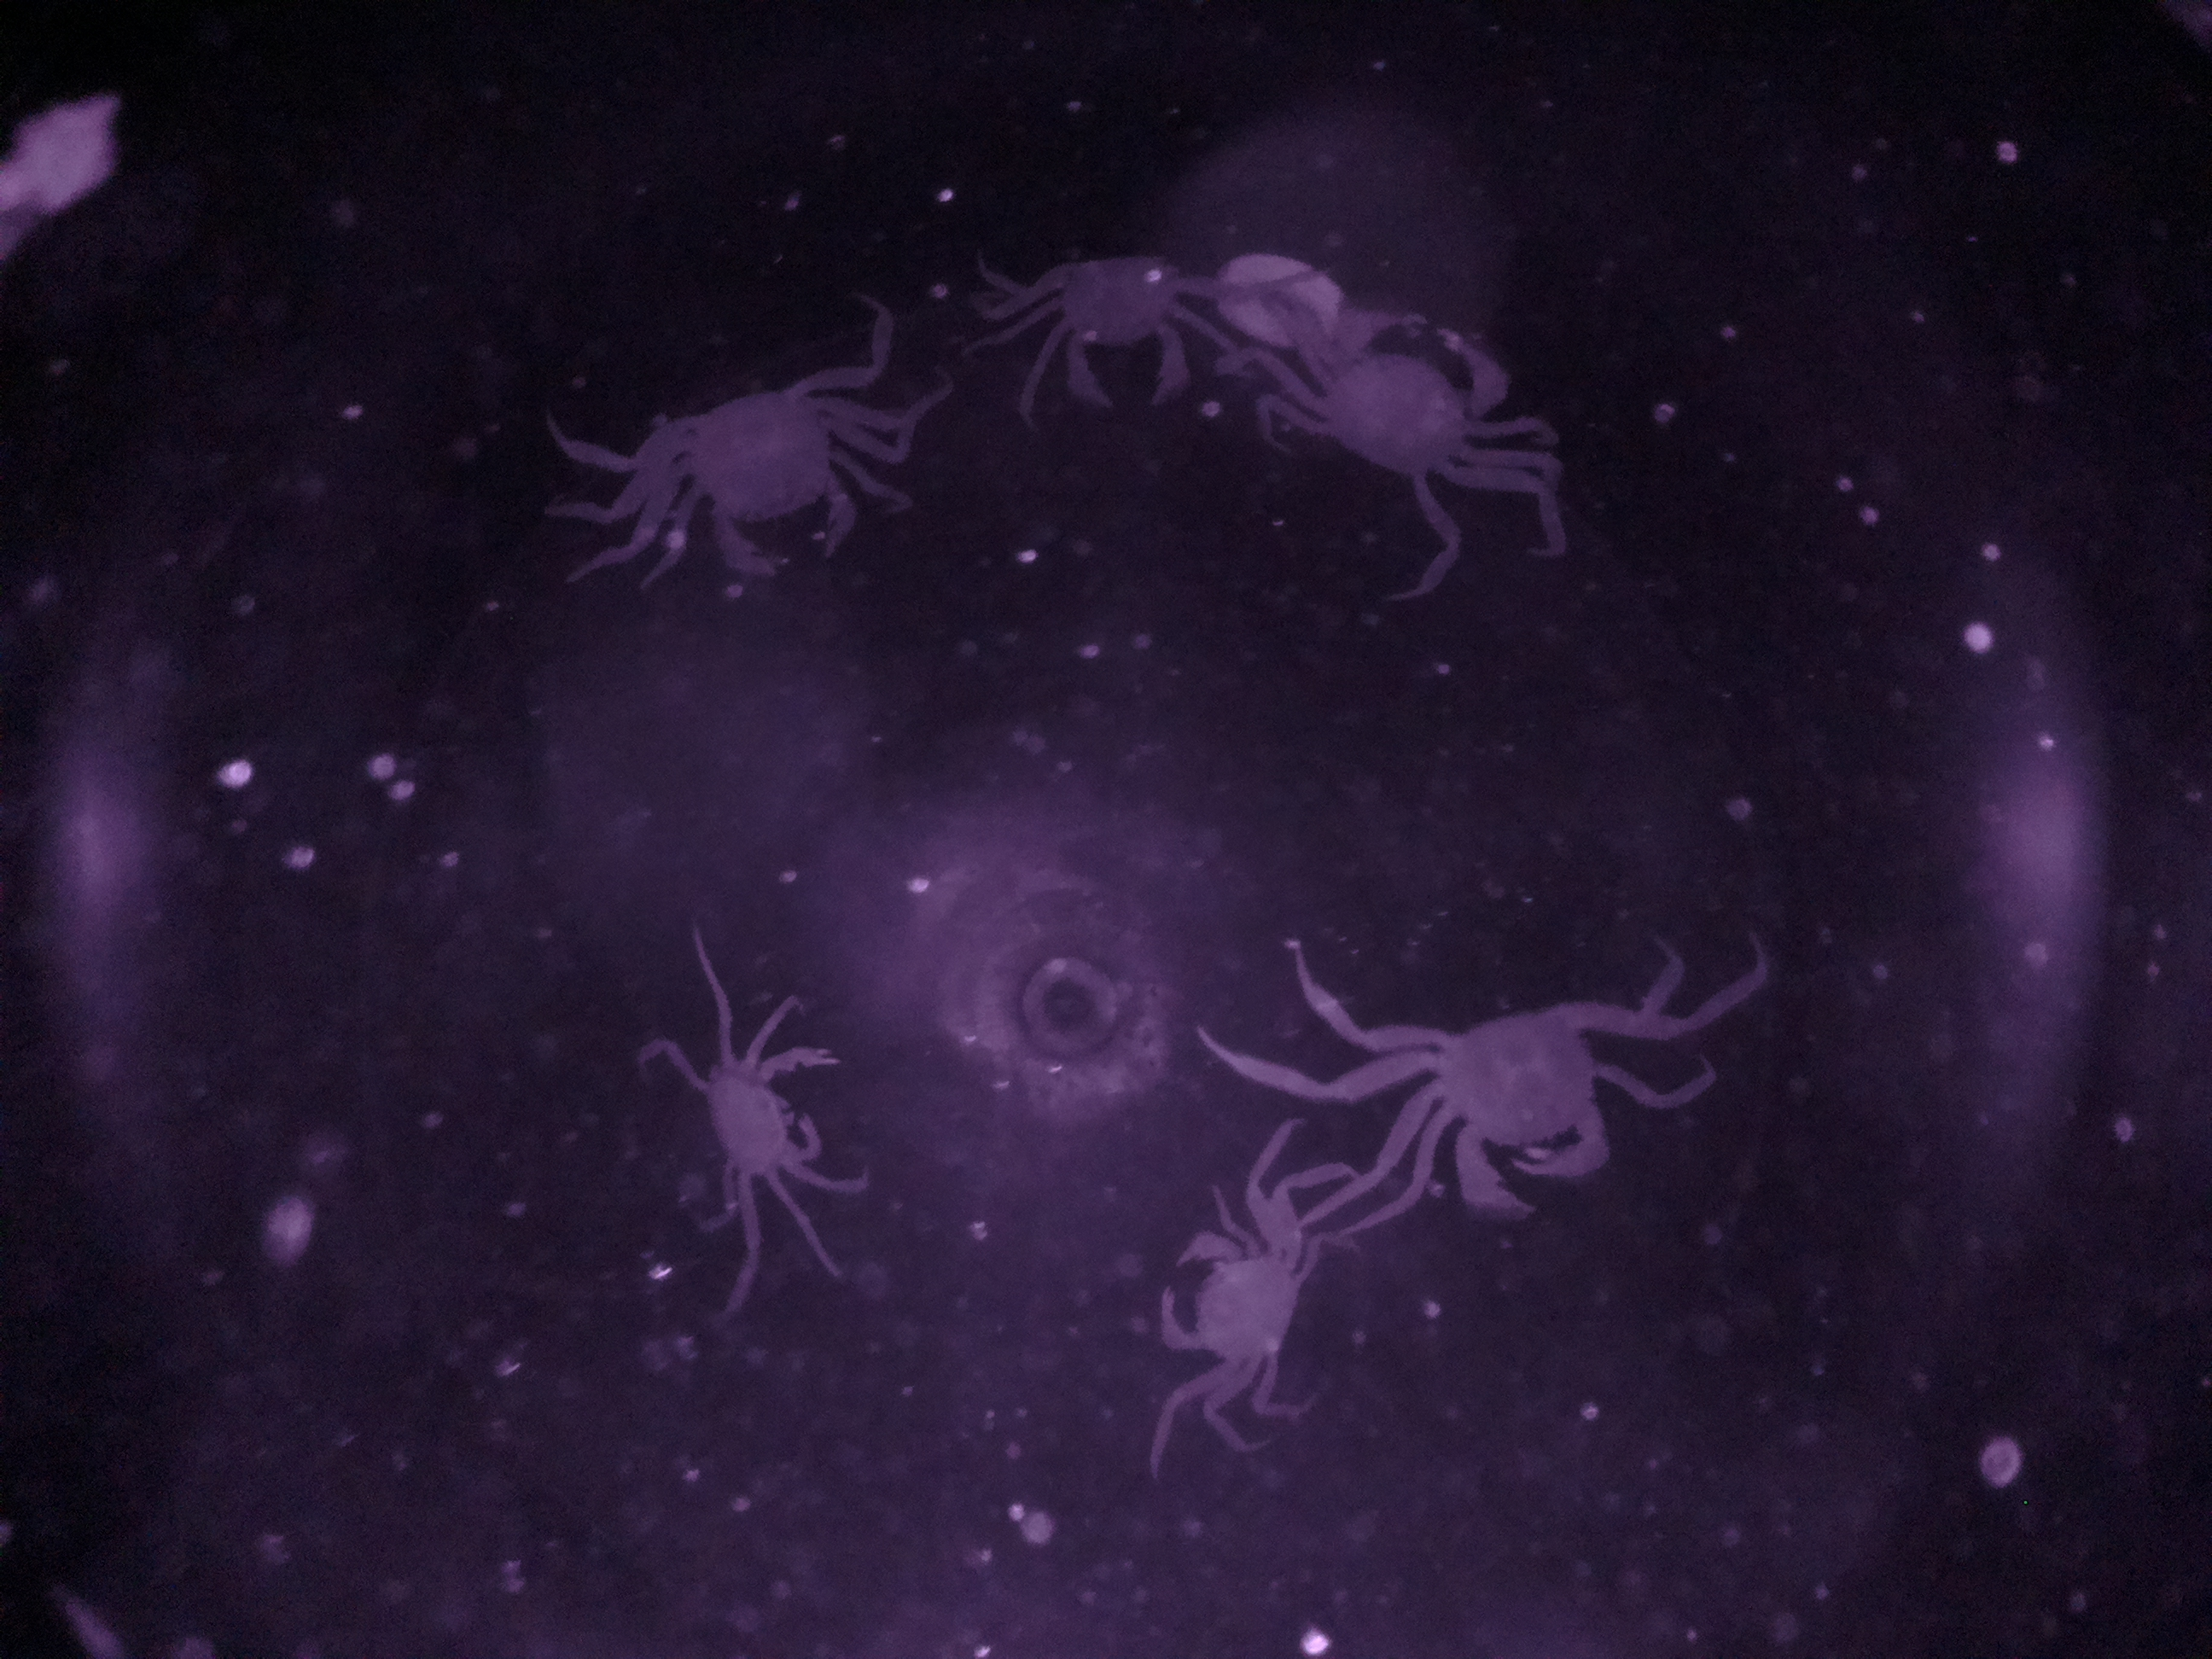Crab: (1383, 981, 1649, 1234), (644, 349, 880, 613), (1251, 298, 1507, 523), (1019, 228, 1204, 432), (1137, 1208, 1336, 1396), (678, 1033, 878, 1220)
